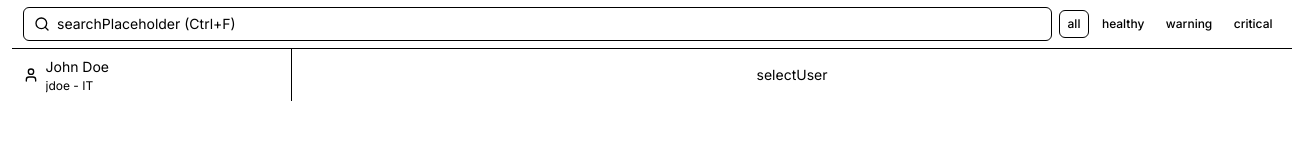
UserLookup › shows context menu on right-click with no user selected
Right-click the button with test id "user-result-jdoe" at x=77, y=66, box x1=12 y1=48 x2=291 y2=102
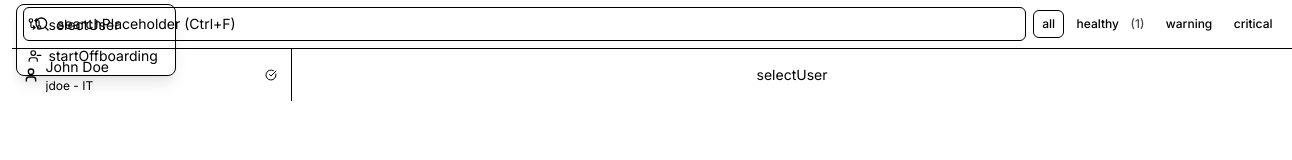
expect the menu with test id "context-menu" is shown: met, box x1=16 y1=4 x2=176 y2=76
